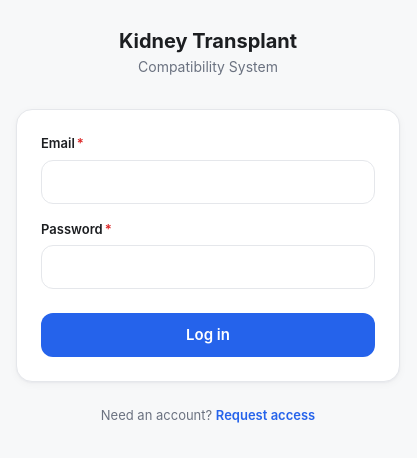
Test case: LoginPage › shows a specific message when the API rejects with a 401
Type "doctor@example.com" into the field labelled "Email*". click: (208, 182)
box: x1=41 y1=160 x2=375 y2=204
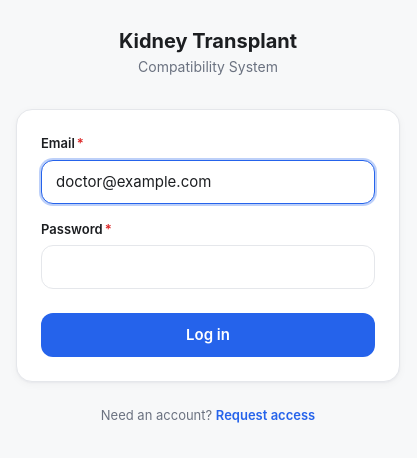
Type "wrong-password" into the password field labelled "Password*". click: (208, 267)
box: x1=41 y1=245 x2=375 y2=289
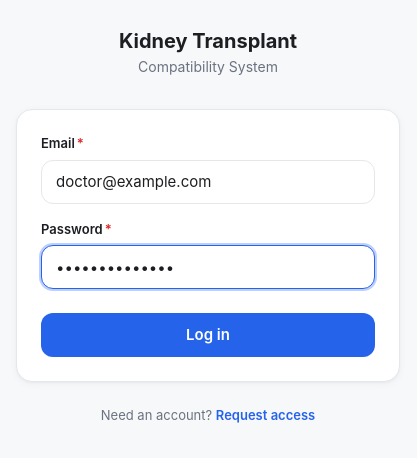
Click the button "Log in". click: (208, 335)
box: x1=41 y1=313 x2=375 y2=357
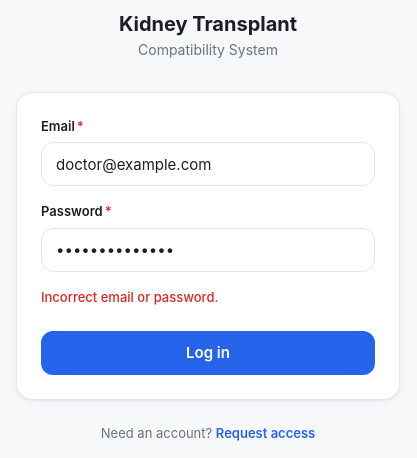
Result: the text "Incorrect email or password." is shown at x1=41 y1=288 x2=218 y2=304
